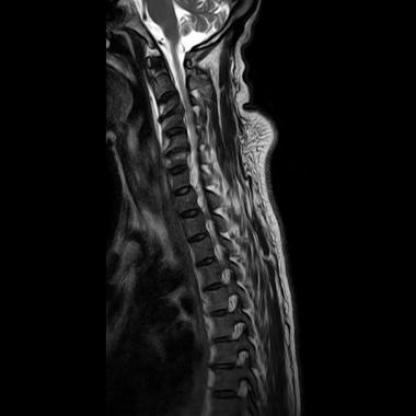Disc Protrusionrotation: (153, 104, 187, 120)
